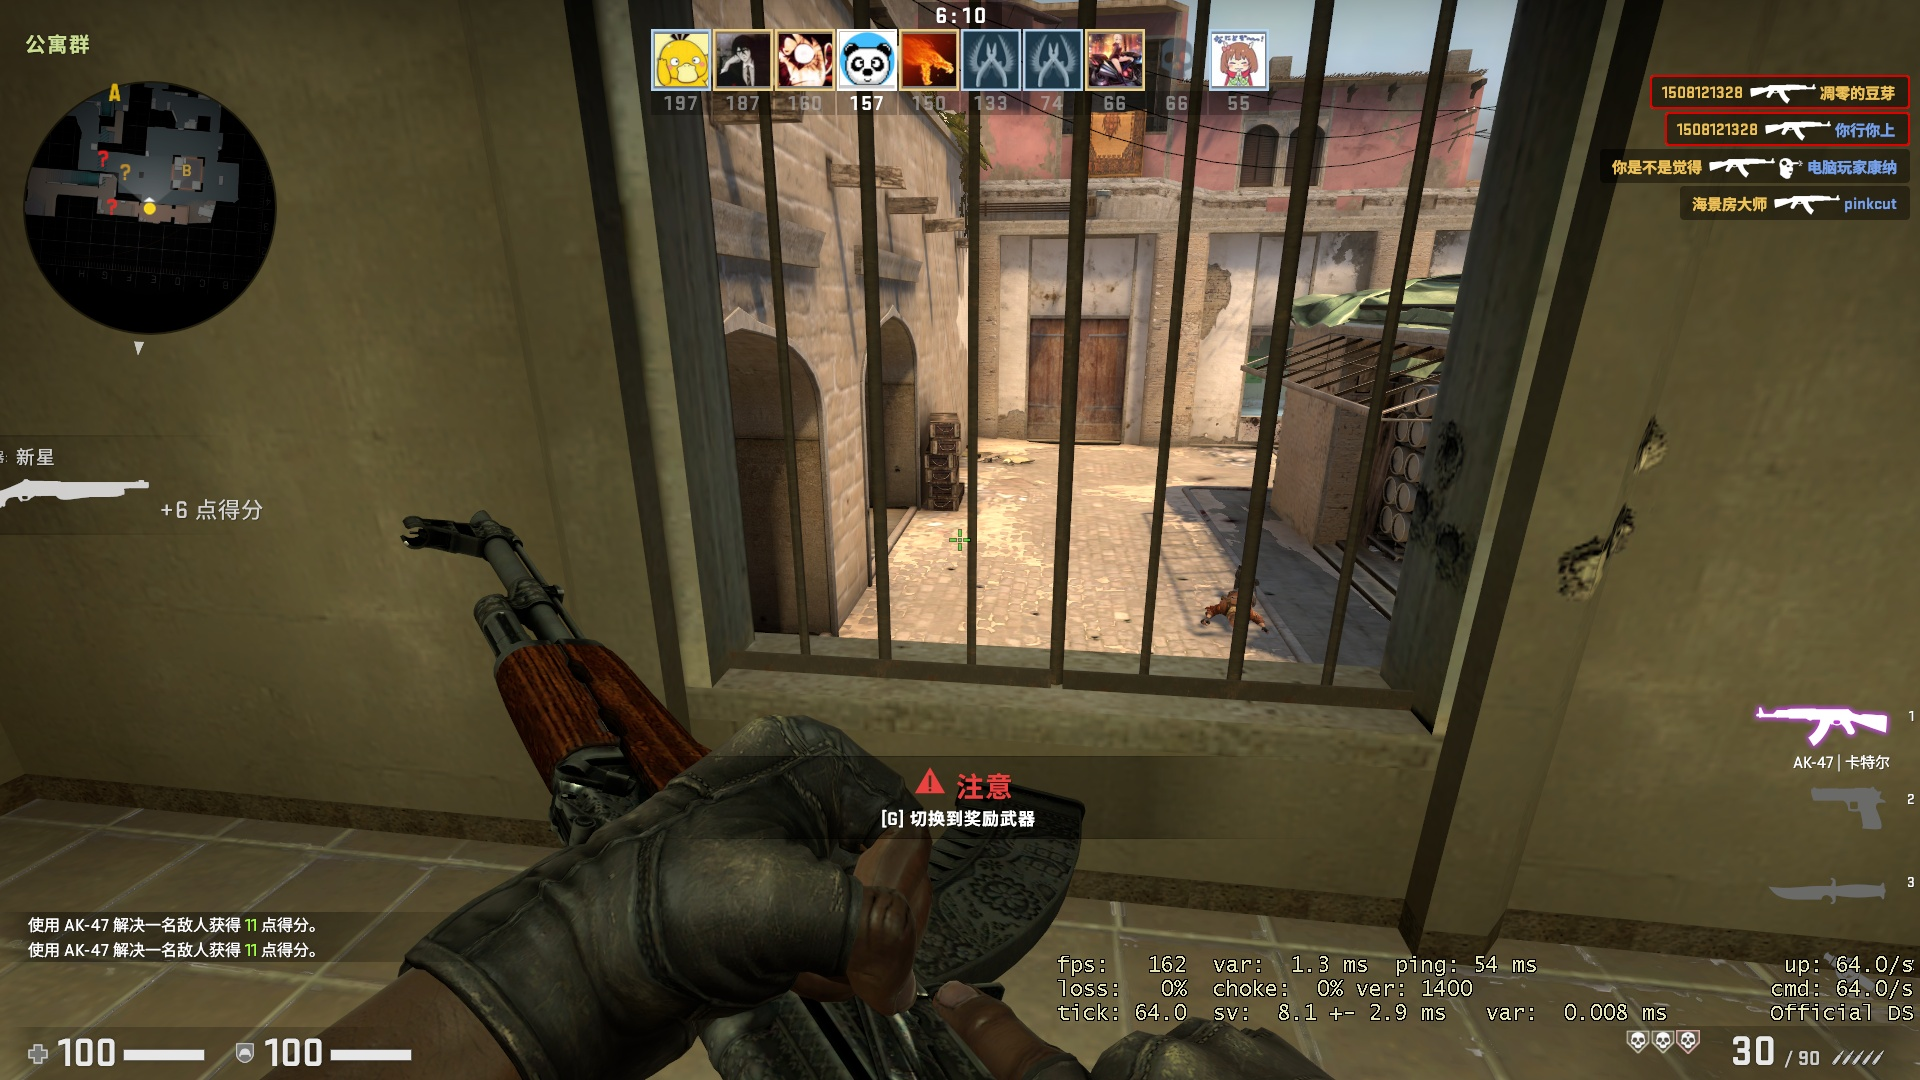body: (1203, 568, 1262, 626)
